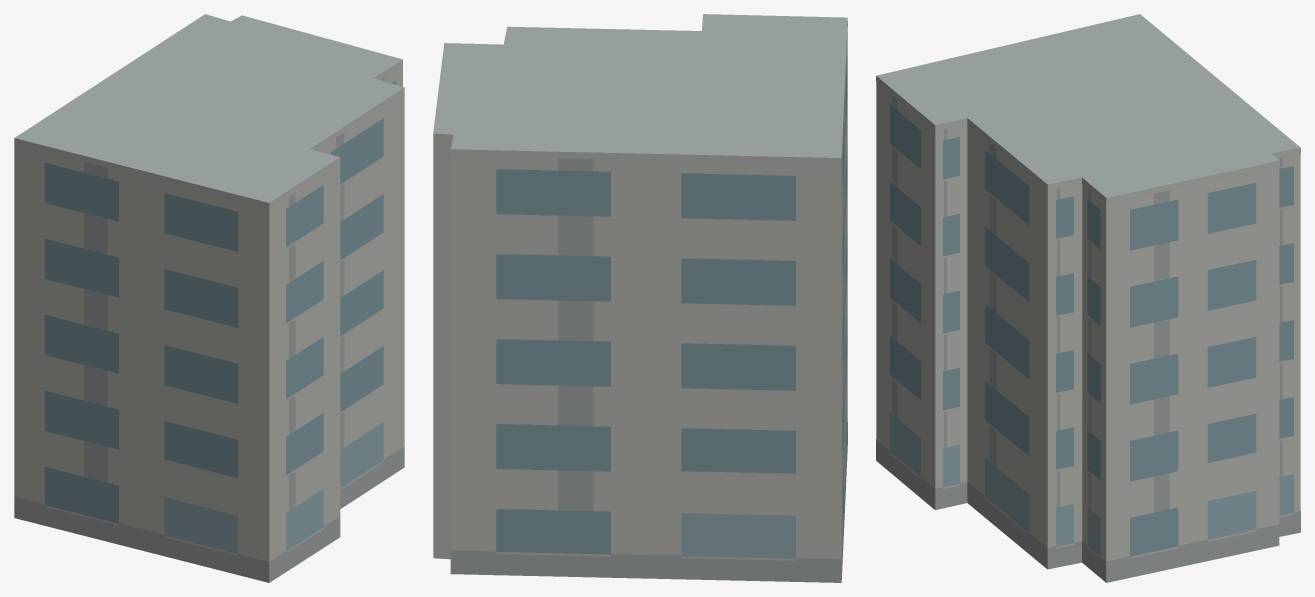
Rendered from survey-upis-32781148.glb.
3 views of the same model, side by side, from view 1: azimuth 30°, elevation 25°; view 2: azimuth 150°, elevation 25°; view 3: azimuth 270°, elevation 25° (orthographic). The views are drawn at different scales.
Parts seen in each view (by area): view 1: survey-upis-32781148.tmp; view 2: survey-upis-32781148.tmp; view 3: survey-upis-32781148.tmp.
Part boxes in pixels (x1,y1,x2,y2): survey-upis-32781148.tmp: (14,14,404,582); survey-upis-32781148.tmp: (433,14,847,582); survey-upis-32781148.tmp: (876,14,1300,582).
Bounding box in the file's own units: 15.99 × 15.6 × 15.6.
